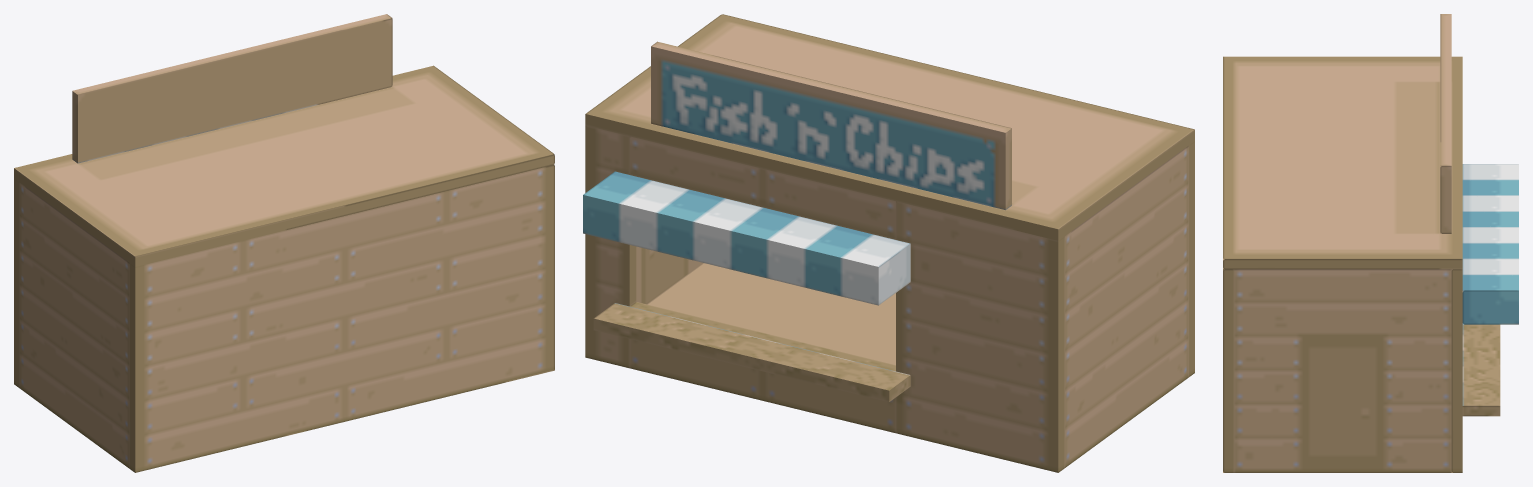
The model's file is FishAndChipsShop.fbx.
3 renders of one model, left to right at view 1: azimuth 30°, elevation 25°; view 2: azimuth 150°, elevation 25°; view 3: azimuth 270°, elevation 25°, orthographic. The views are drawn at different scales.
Visible parts, largest first — view 1: wall_3, roof, sign, wall_4, wall_6; view 2: roof, wall_6, sign, wall_4, awning, floor, wall_2, counter, wall, wall_1, wall_5, wall_3; view 3: roof, wall_5, awning, counter, sign, wall_3, wall_1.
Part boxes in pixels (left/top/right/bottom): wall_3: left=129, top=165, right=554, bottom=472; roof: left=14, top=65, right=554, bottom=266; sign: left=72, top=14, right=392, bottom=163; wall_4: left=19, top=183, right=129, bottom=468; wall_6: left=14, top=178, right=19, bottom=387; roof: left=585, top=14, right=1194, bottom=240; wall_6: left=896, top=201, right=1064, bottom=472; sign: left=651, top=41, right=1011, bottom=210; wall_4: left=1065, top=146, right=1188, bottom=467; awning: left=583, top=171, right=910, bottom=305; floor: left=647, top=263, right=895, bottom=364; wall_2: left=629, top=136, right=895, bottom=239; counter: left=593, top=303, right=910, bottom=401; wall: left=629, top=302, right=895, bottom=433; wall_1: left=585, top=125, right=636, bottom=368; wall_5: left=636, top=246, right=702, bottom=304; wall_3: left=1188, top=141, right=1194, bottom=377; roof: left=1223, top=56, right=1462, bottom=269; wall_5: left=1234, top=269, right=1451, bottom=472; awning: left=1462, top=164, right=1518, bottom=324; counter: left=1462, top=324, right=1500, bottom=416; sign: left=1440, top=14, right=1451, bottom=233; wall_3: left=1223, top=258, right=1234, bottom=472; wall_1: left=1451, top=269, right=1462, bottom=472.
Bounding box in the file's own units: 400 × 259 × 247.
1 material, 1 textured.
